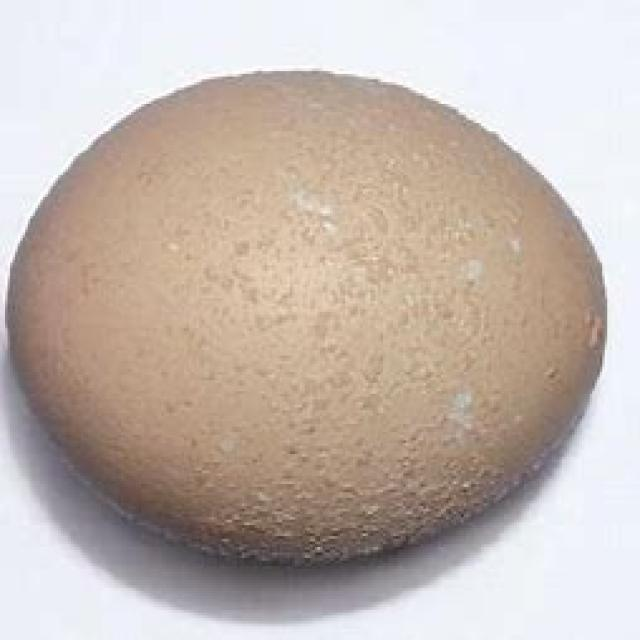Calcium Deposit Egg: (0, 61, 615, 592)
